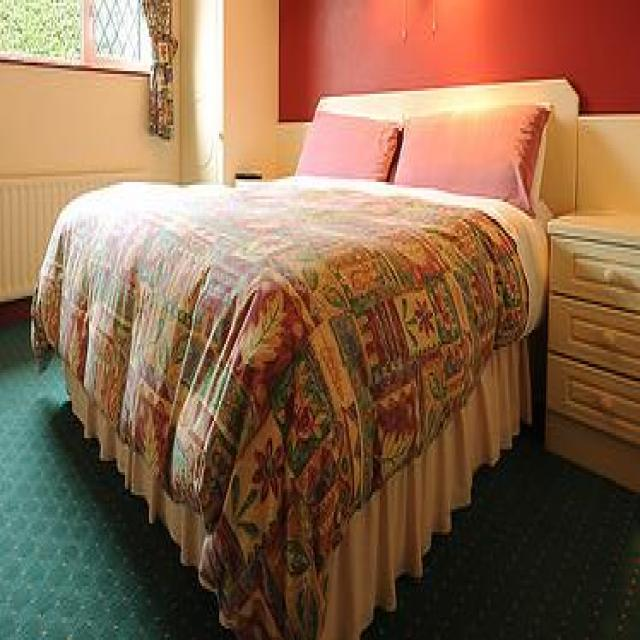bed: (52, 75, 579, 640)
